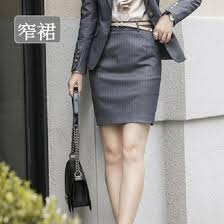F_tailored skirt: (74, 18, 170, 146)
